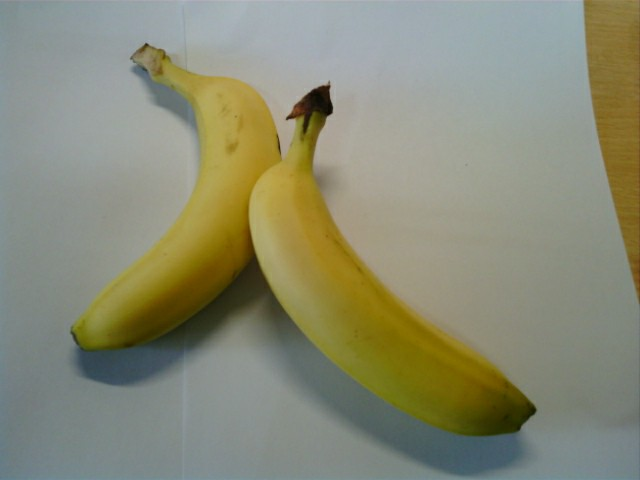fresh_banana: (247, 155, 536, 436), (70, 59, 282, 361)
